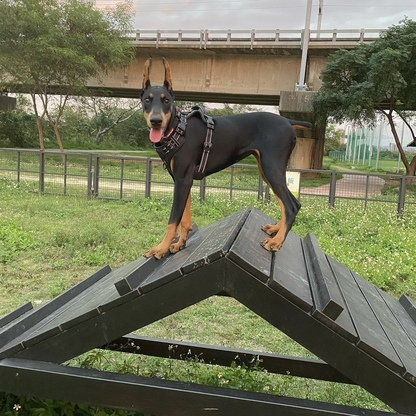doberman: (126, 56, 324, 266)
